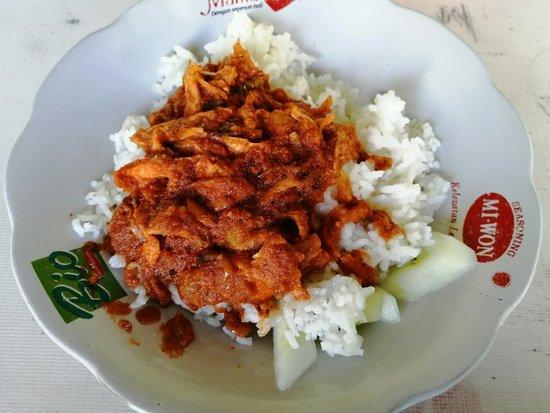daging: (162, 134, 275, 265)
makanan_berpati: (396, 127, 421, 207)
